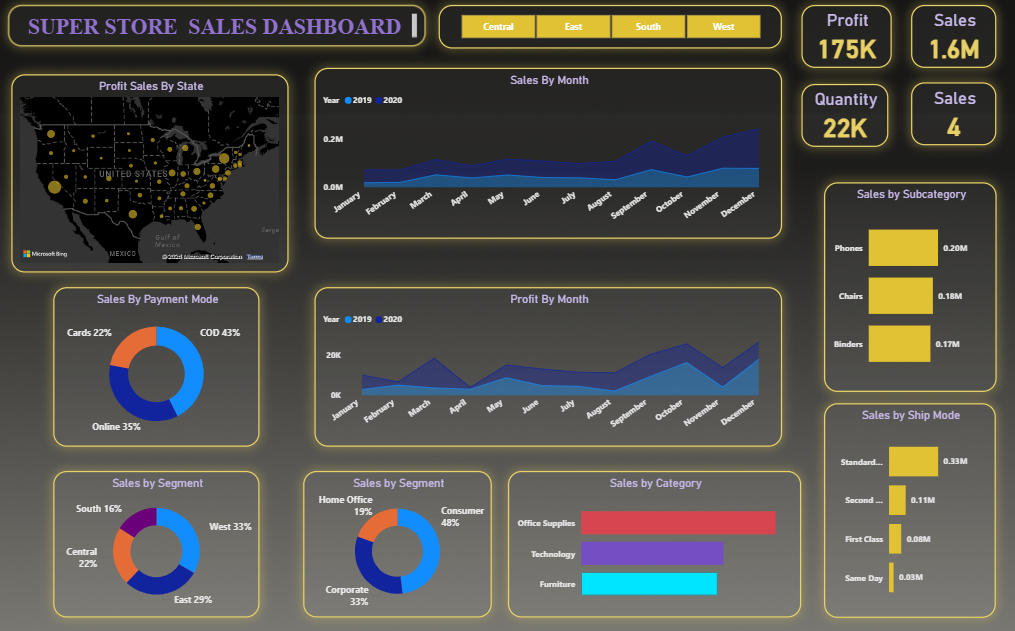

Layout of this report page (visuals, bound fields, positions):
{"tool":"powerbi","page":{"name":"Super_Store","canvas":[1500,984],"ordinal":0},"visuals":[{"type":"clusteredBarChart","title":"Sales by Category","fields":{"Category":["Sales_report.Category"],"Y":["Sum(Sales_report.Sales)"]},"box":[749.6,706.8,433.1,216.6],"z":0},{"type":"clusteredBarChart","title":"Sales by Subcategory","fields":{"Category":["Sales_report.Sub-Category"],"Y":["Sum(Sales_report.Sales)"]},"box":[1216.1,280.8,254.6,309.4],"z":1000},{"type":"clusteredBarChart","title":"Sales by Ship Mode","fields":{"Category":["Sales_report.Ship Mode"],"Y":["Sum(Sales_report.Sales)"]},"box":[1216.7,606.7,253.3,316.7],"z":2000},{"type":"stackedAreaChart","title":"Sales By Month","fields":{"Y":["Sum(Sales_report.Sales)"],"Category":["Sales_report.Order Date.Variation.Date Hierarchy.Month"],"Series":["Sales_report.Order Date.Variation.Date Hierarchy.Year"]},"box":[464.1,111.8,690.1,252.3],"z":3000},{"type":"stackedAreaChart","title":"Profit By Month","fields":{"Category":["Sales_report.Order Date.Variation.Date Hierarchy.Month"],"Series":["Sales_report.Order Date.Variation.Date Hierarchy.Year"],"Y":["Sum(Sales_report.Profit)"]},"box":[464.1,435.5,690.1,235.6],"z":4000},{"type":"map","title":"Profit Sales By State","fields":{"Category":["Sales_report.State"],"Size":["Sum(Sales_report.Sales)"]},"box":[16.7,121.4,409.3,292.7],"z":5000},{"type":"donutChart","title":" Sales by Segment","fields":{"Category":["Sales_report.Segment"],"Y":["Sum(Sales_report.Sales)"]},"box":[447.4,706.8,278.4,216.6],"z":6000},{"type":"donutChart","title":"Sales By Payment Mode","fields":{"Category":["Sales_report.Payment Mode"],"Y":["Sum(Sales_report.Sales)"]},"box":[78.5,435.5,304.6,235.6],"z":7000},{"type":"slicer","fields":{"Values":["Sales_report.Region"]},"box":[647.3,19,506.9,64.3],"z":8000},{"type":"textbox","box":[11.7,20,616.7,61.7],"z":9000},{"type":"card","title":"Sales","fields":{"Values":["Sum(Sales_report.Sales)"]},"box":[1344.6,19,126.1,92.8],"z":10000},{"type":"card","title":"Quantity","fields":{"Values":["Sum(Sales_report.Quantity)"]},"box":[1182.7,135.6,128.5,92.8],"z":11000},{"type":"card","title":"Profit","fields":{"Values":["Sum(Sales_report.Profit)"]},"box":[1182.7,19,133.3,92.8],"z":12000},{"type":"card","title":"Sales","fields":{"Values":["Avg(Sales_report.Avg_Delivery)"]},"box":[1344.6,133.3,126.1,92.8],"z":13000},{"type":"donutChart","title":" Sales by Segment","fields":{"Category":["Sales_report.Region"],"Y":["Sum(Sales_report.Sales)"]},"box":[78.5,706.8,304.6,216.6],"z":14000}]}

Visuals, with their boxes in screenshot pixels (x1, y1, x2, y2):
"Sales by Category" clusteredBarChart: x1=505 y1=439 x2=800 y2=586
"Sales by Subcategory" clusteredBarChart: x1=822 y1=149 x2=996 y2=359
"Sales by Ship Mode" clusteredBarChart: x1=823 y1=371 x2=995 y2=586
"Sales By Month" stackedAreaChart: x1=311 y1=34 x2=780 y2=205
"Profit By Month" stackedAreaChart: x1=311 y1=254 x2=780 y2=414
"Profit Sales By State" map: x1=6 y1=40 x2=285 y2=240
" Sales by Segment" donutChart: x1=299 y1=439 x2=489 y2=586
"Sales By Payment Mode" donutChart: x1=48 y1=254 x2=255 y2=414
slicer - Sales_report.Region: x1=435 y1=0 x2=780 y2=14
textbox: x1=3 y1=0 x2=422 y2=13
"Sales" card: x1=910 y1=0 x2=996 y2=34
"Quantity" card: x1=800 y1=50 x2=887 y2=113
"Profit" card: x1=800 y1=0 x2=890 y2=34
"Sales" card: x1=910 y1=48 x2=996 y2=112
" Sales by Segment" donutChart: x1=48 y1=439 x2=255 y2=586
